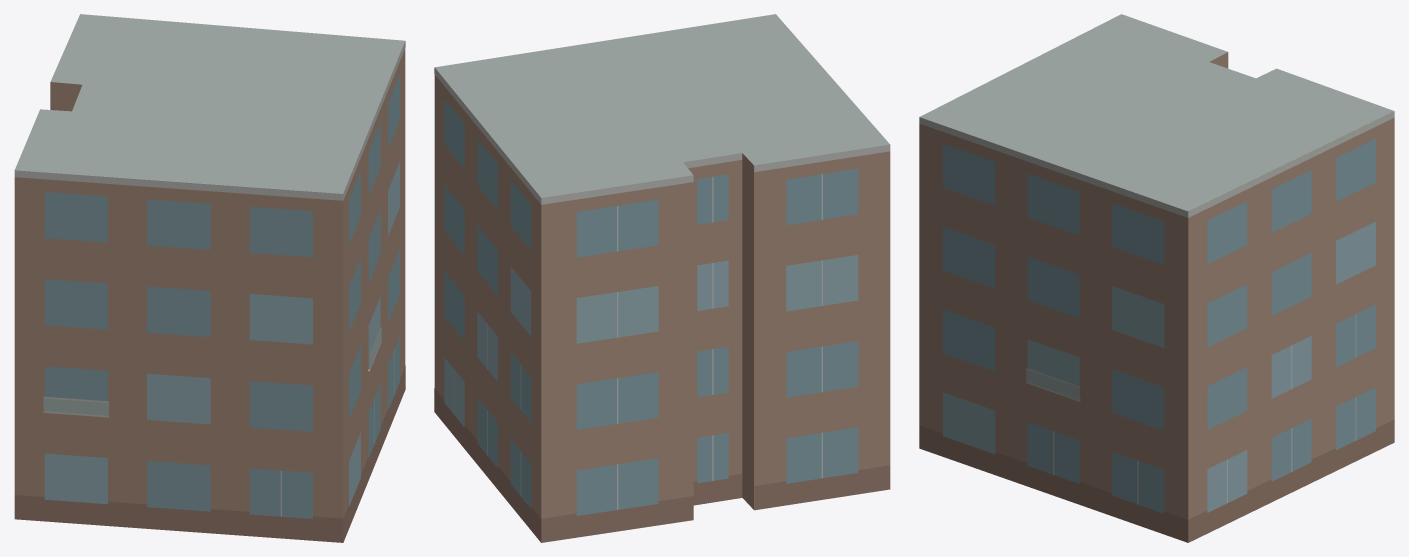
Rendered from survey-upis-32669921.glb.
3 views of the same model, side by side, from view 1: azimuth 30°, elevation 25°; view 2: azimuth 150°, elevation 25°; view 3: azimuth 270°, elevation 25° (orthographic). The views are drawn at different scales.
Parts seen in each view (by area): view 1: survey-upis-32669921.tmp; view 2: survey-upis-32669921.tmp; view 3: survey-upis-32669921.tmp.
Part boxes in pixels (<box>): survey-upis-32669921.tmp: <box>14,14,405,542</box>; survey-upis-32669921.tmp: <box>434,14,890,542</box>; survey-upis-32669921.tmp: <box>919,14,1394,542</box>.
Size of the model in its own units: 15.98 by 12.5 by 16.26.
